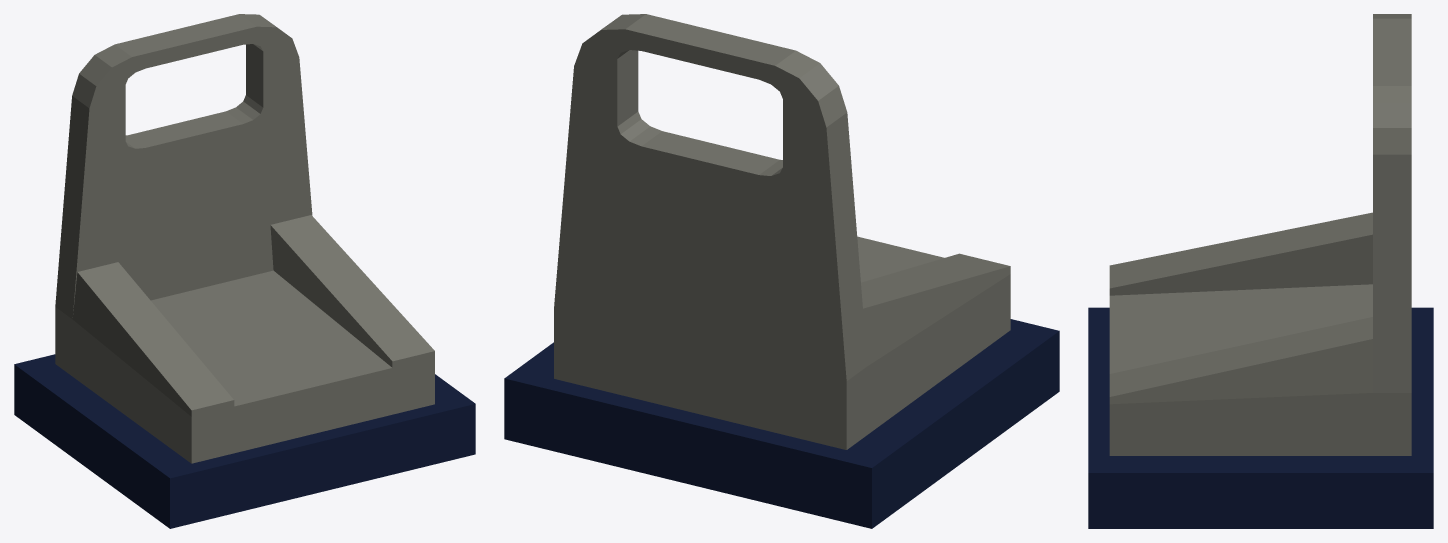
The model's file is Chair2.fbx.
3 renders of one model, left to right at view 1: azimuth 30°, elevation 25°; view 2: azimuth 150°, elevation 25°; view 3: azimuth 270°, elevation 25°, orthographic. The views are drawn at different scales.
Parts seen in each view (by area): view 1: Chair2; view 2: Chair2; view 3: Chair2.
Boxes of the visible parts, <box> form: Chair2: <box>14,14,475,528</box>; Chair2: <box>504,14,1059,528</box>; Chair2: <box>1088,14,1433,528</box>.
Size of the model in its own units: 408 by 454 by 361.
